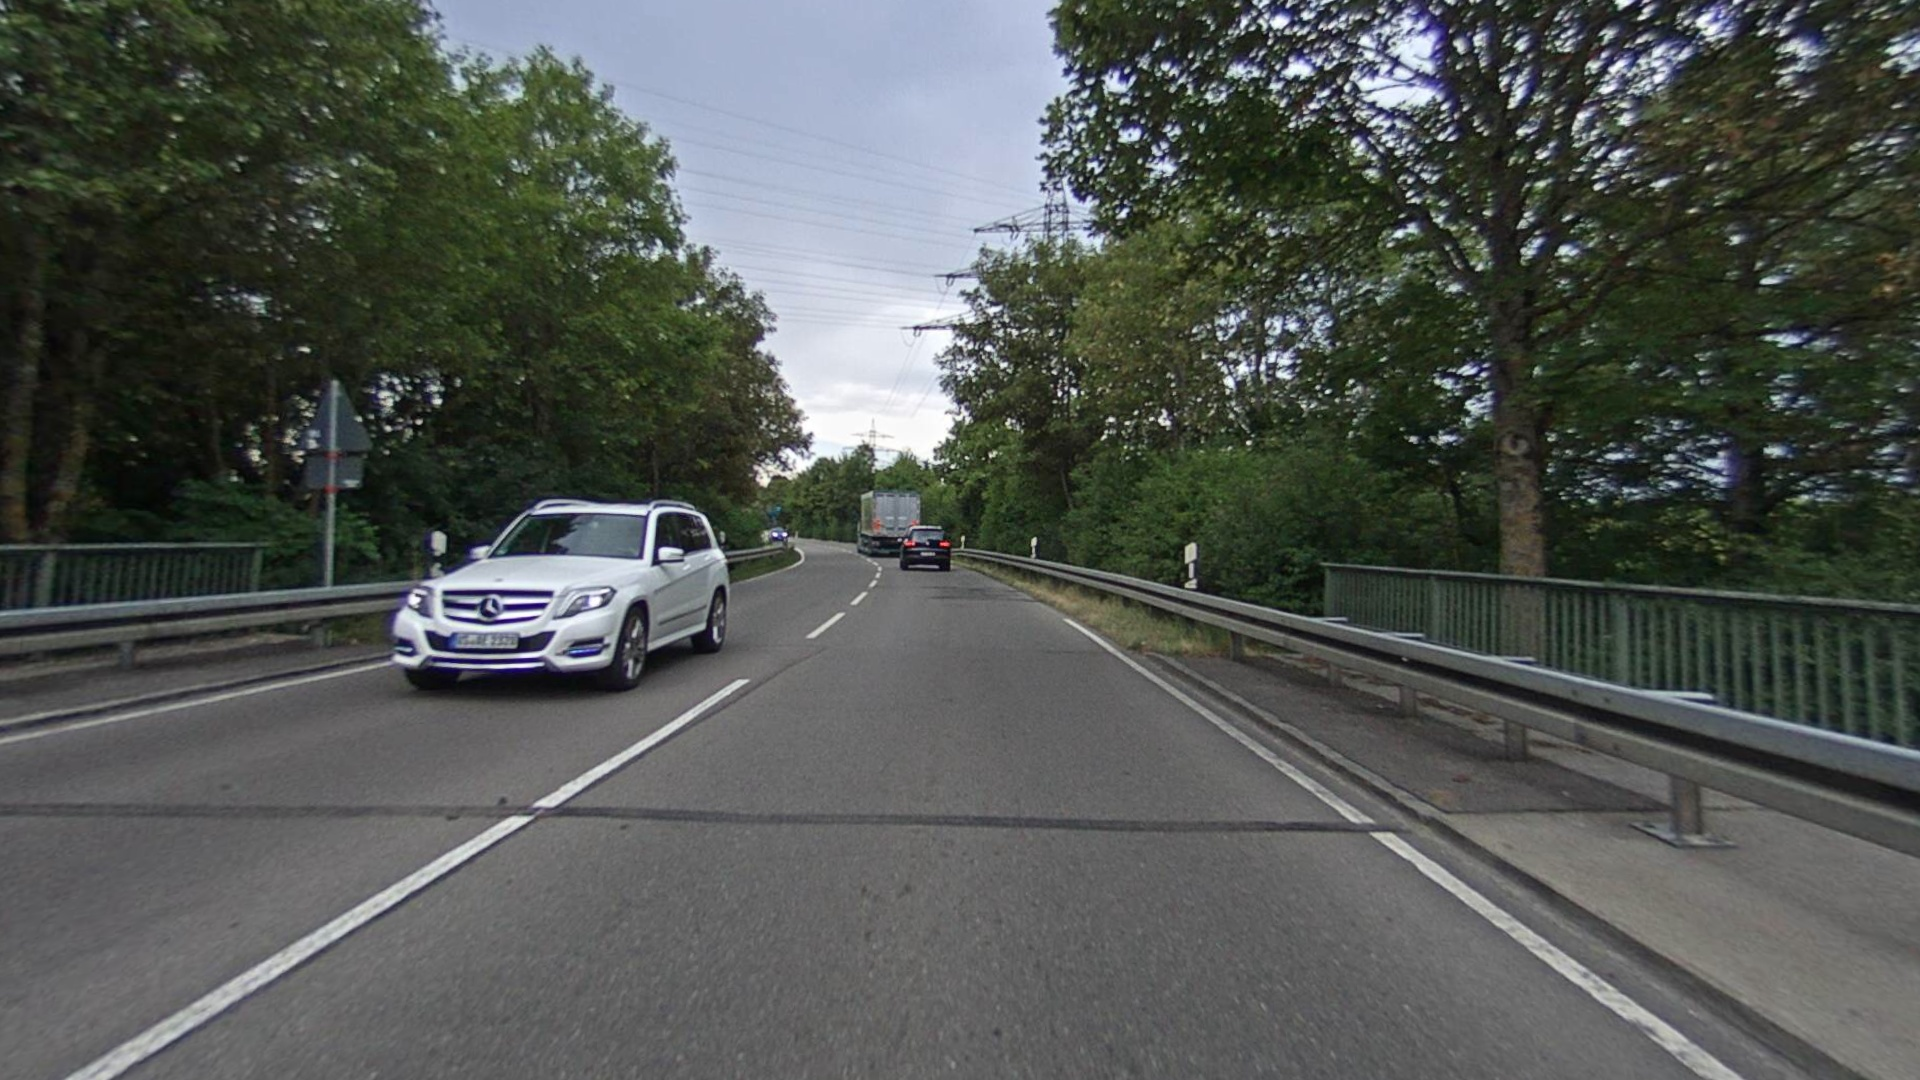car: (386, 497, 733, 694)
